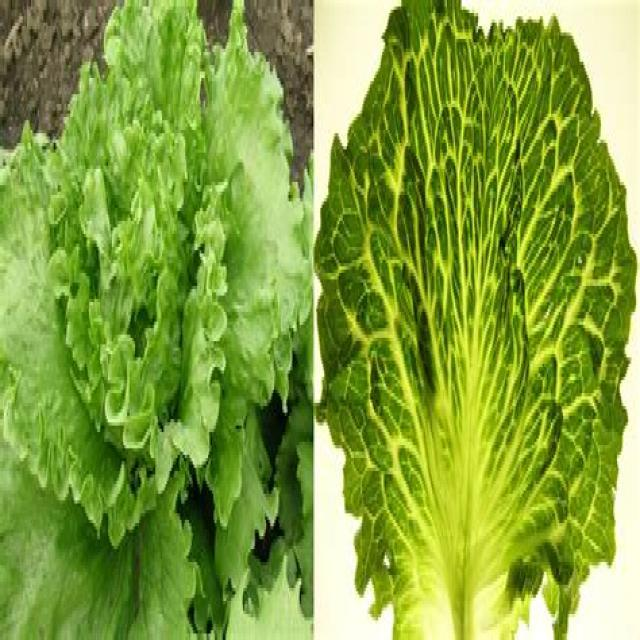Lettuce: (313, 0, 640, 640), (0, 0, 314, 640)
